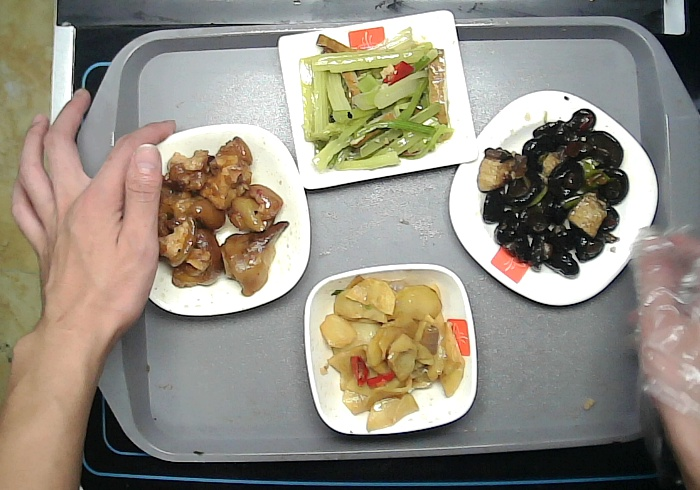SHKJ-Bai_Se_Cai_Die: (127, 122, 312, 316)
SHKJ-Bai_Se_Si_Fang_Cai_Die: (447, 88, 660, 308)
SHKJ-Bai_Se_Xiao_Fang_Die: (301, 262, 480, 437)
SHKJ-Si_Fang_Min: (277, 9, 480, 192)
